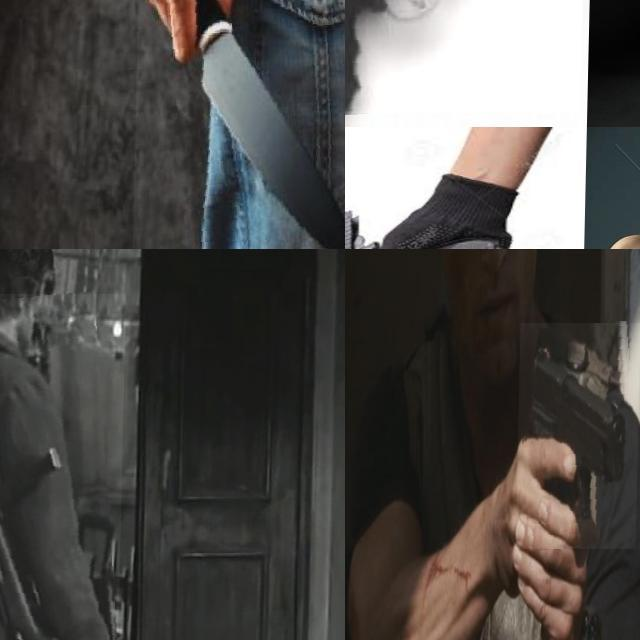-: (134, 0, 345, 249)
gun-knife-thesis - v11 Yolov5 augmented: (0, 294, 126, 640), (345, 0, 586, 151), (517, 323, 640, 549)
